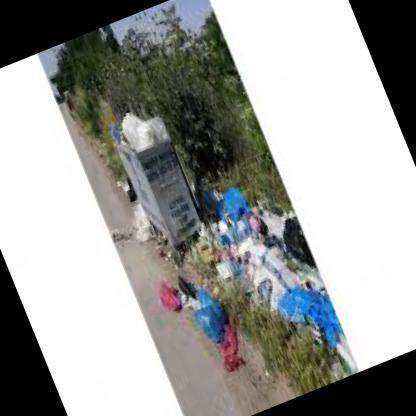Garbage: (229, 191, 344, 357), (157, 254, 254, 382), (196, 173, 290, 287), (274, 206, 320, 278), (189, 281, 238, 346)
